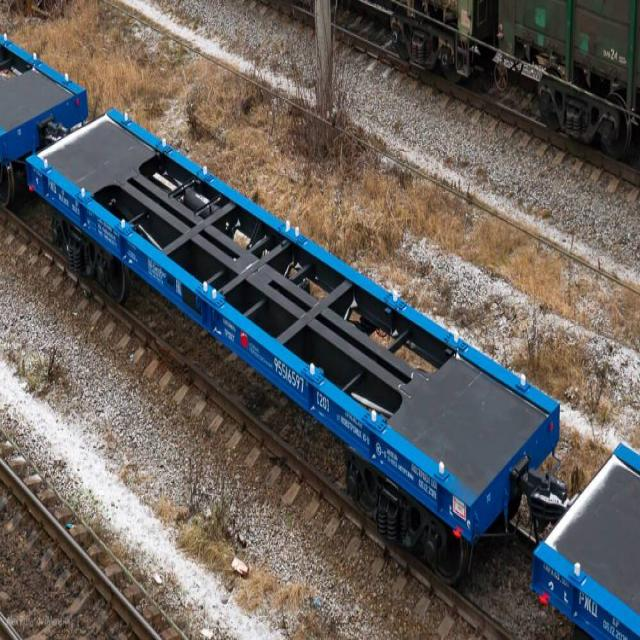flatcar: (21, 100, 563, 591), (523, 423, 640, 640), (0, 22, 89, 195)
